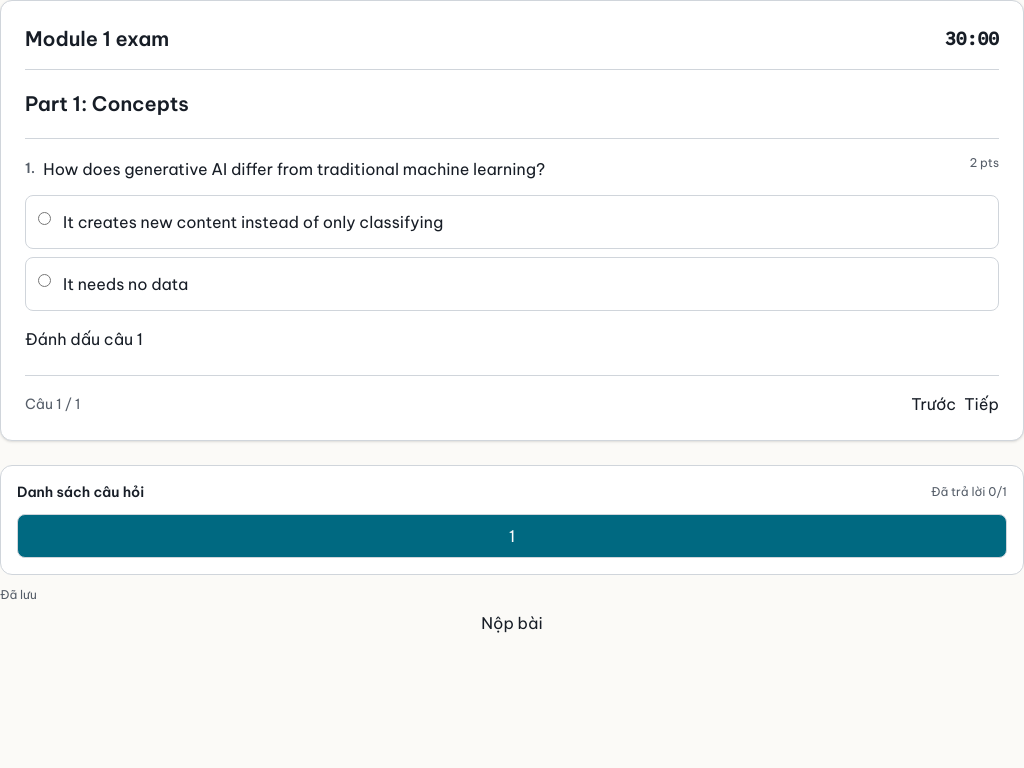
Scenario: ExamPlayer › uses the Vietnamese zero branch when every visible question is answered
Click the radio button labelled "It creates new content instead of only classifying": (44, 218) [38,212,51,225]
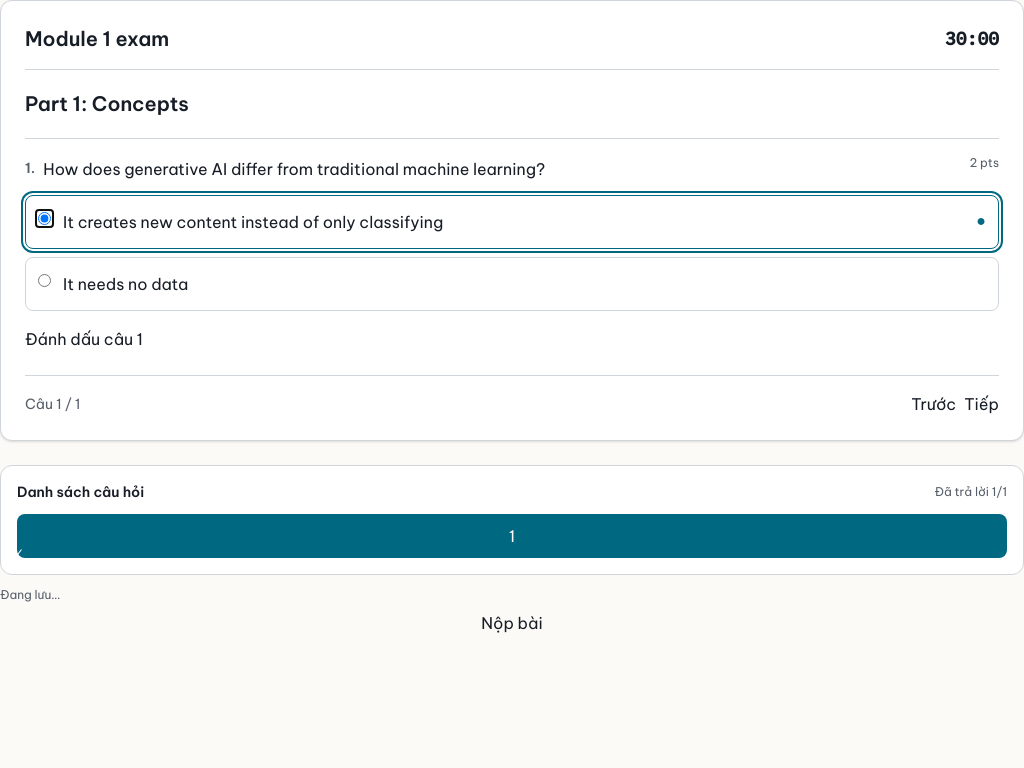
Click the button "Nộp bài": (512, 623) [0,611,1023,635]
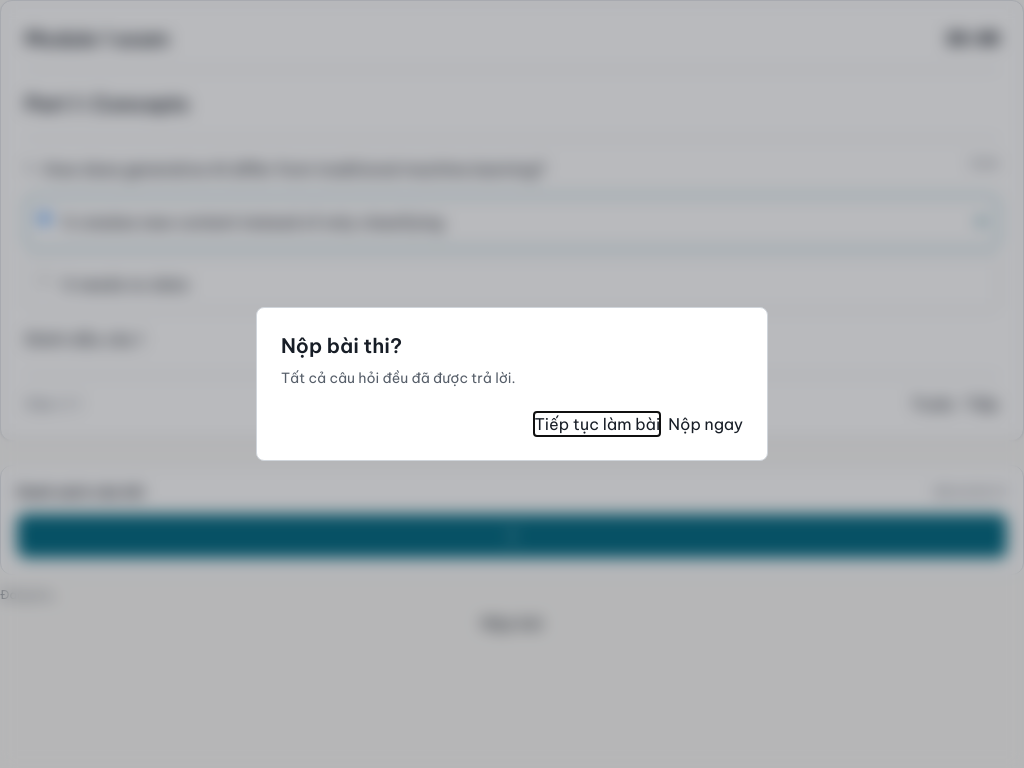
Result: the dialog shows "Tất cả câu hỏi đều đã được trả lời." at [281,369,516,387]
